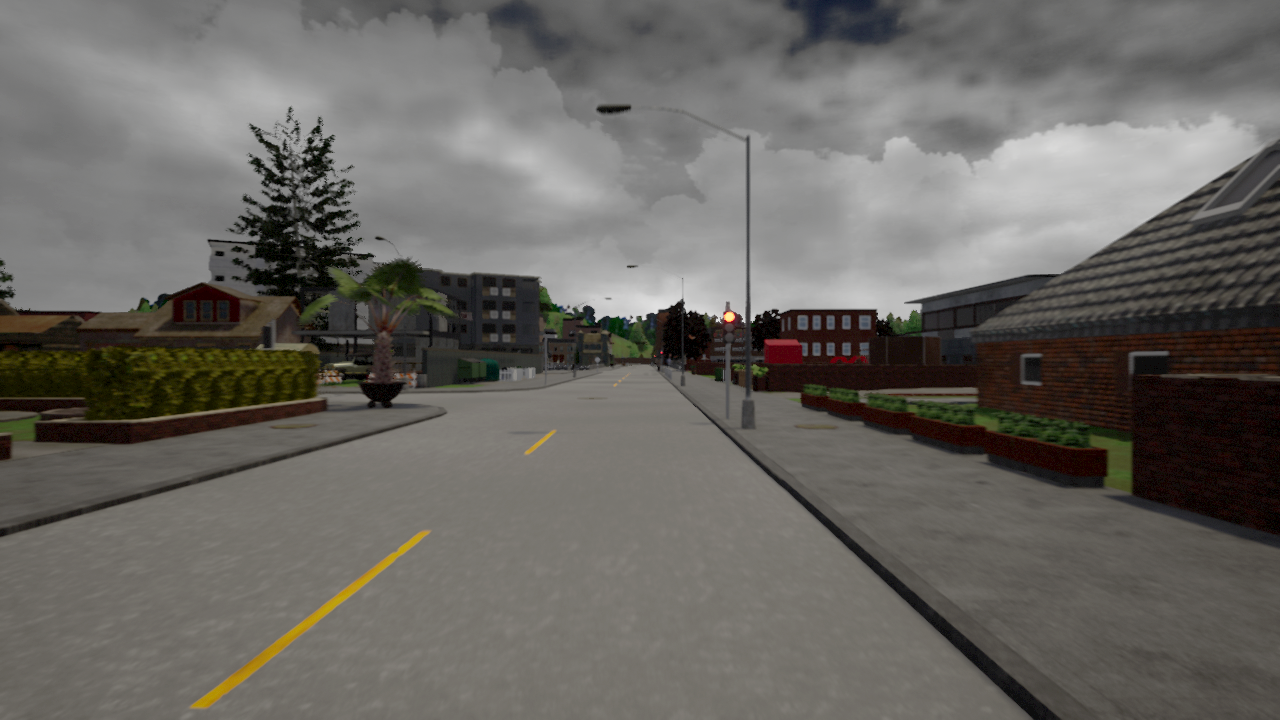red: (722, 310, 738, 345)
